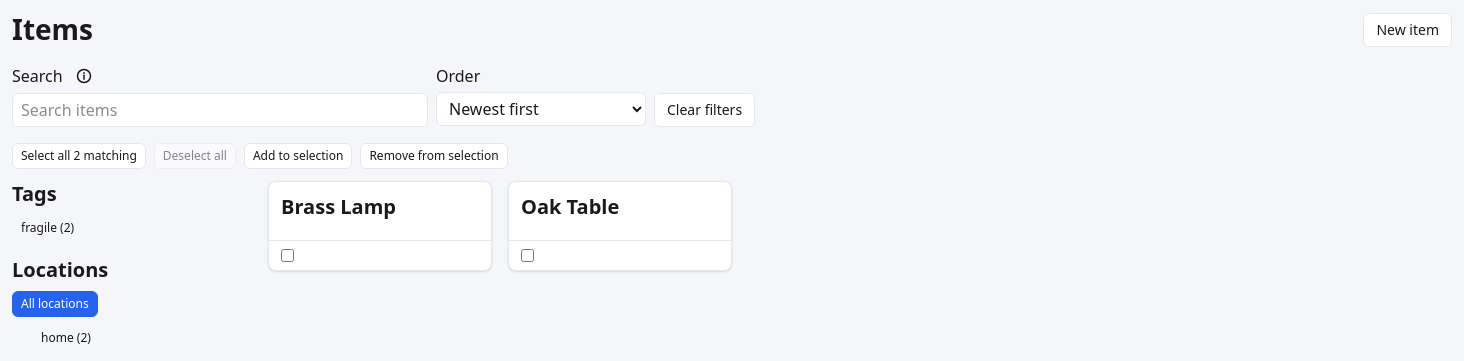
Scenario: selecting items on the catalog › can show just the selection, with the facet panel out of the way
Click the checkbox named "Select Brass Lamp": (288, 256) [281,249,294,262]
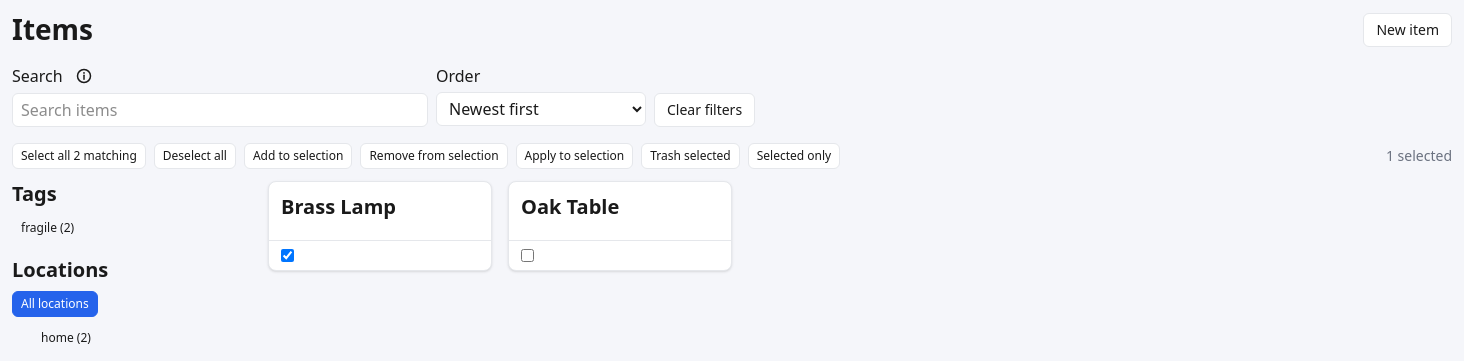
Click the button "Selected only": (794, 156) [748,143,840,169]
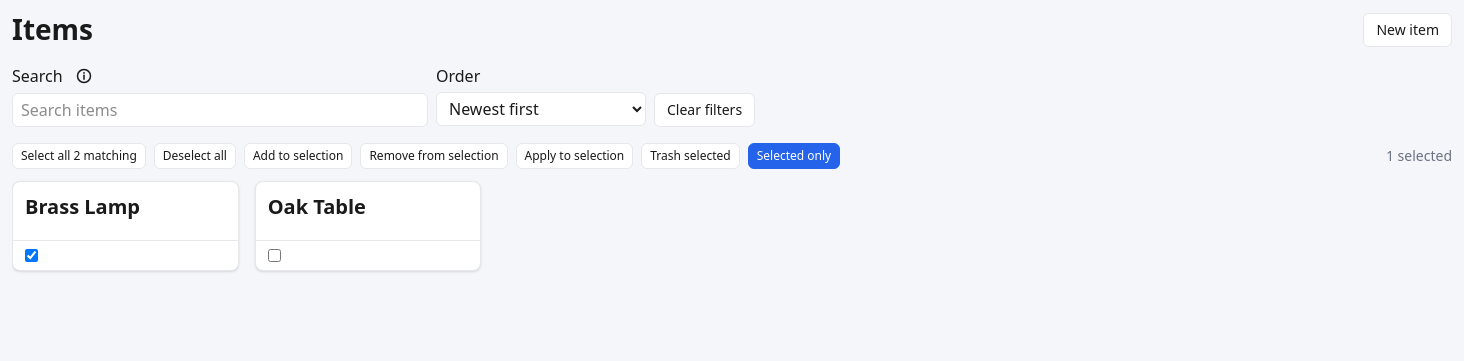
Expected: the heading "Locations" is gone
